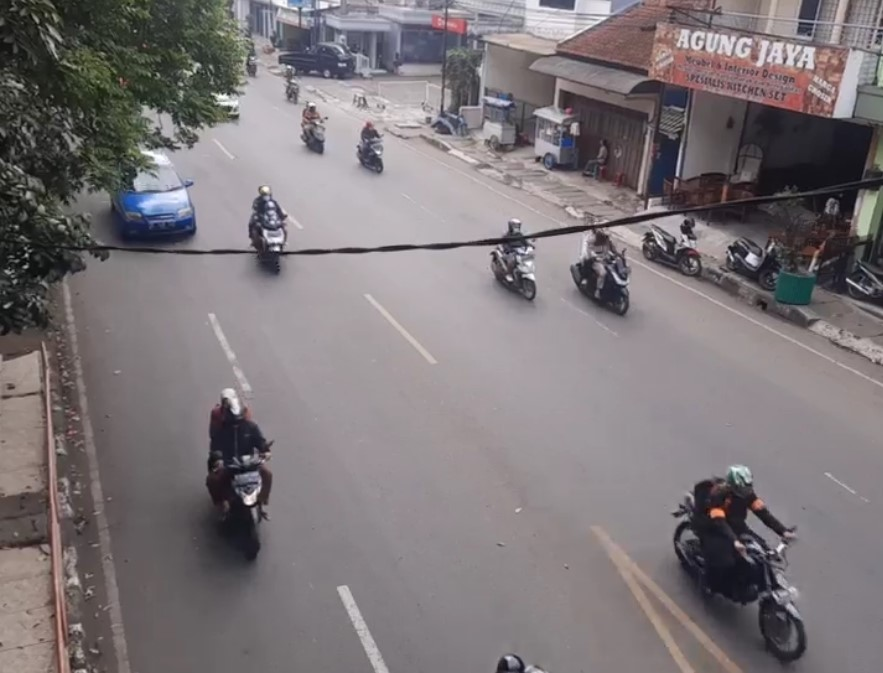motor: (670, 464, 811, 665), (191, 391, 280, 564), (571, 218, 632, 320), (487, 217, 544, 305), (243, 185, 296, 276), (353, 117, 390, 176), (298, 101, 328, 154)
